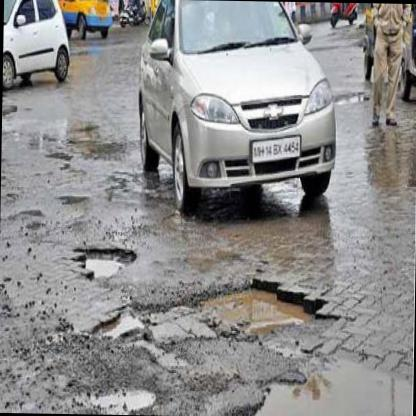pothole: (90, 270, 338, 355), (209, 354, 413, 416), (70, 240, 137, 284), (81, 386, 156, 412)
